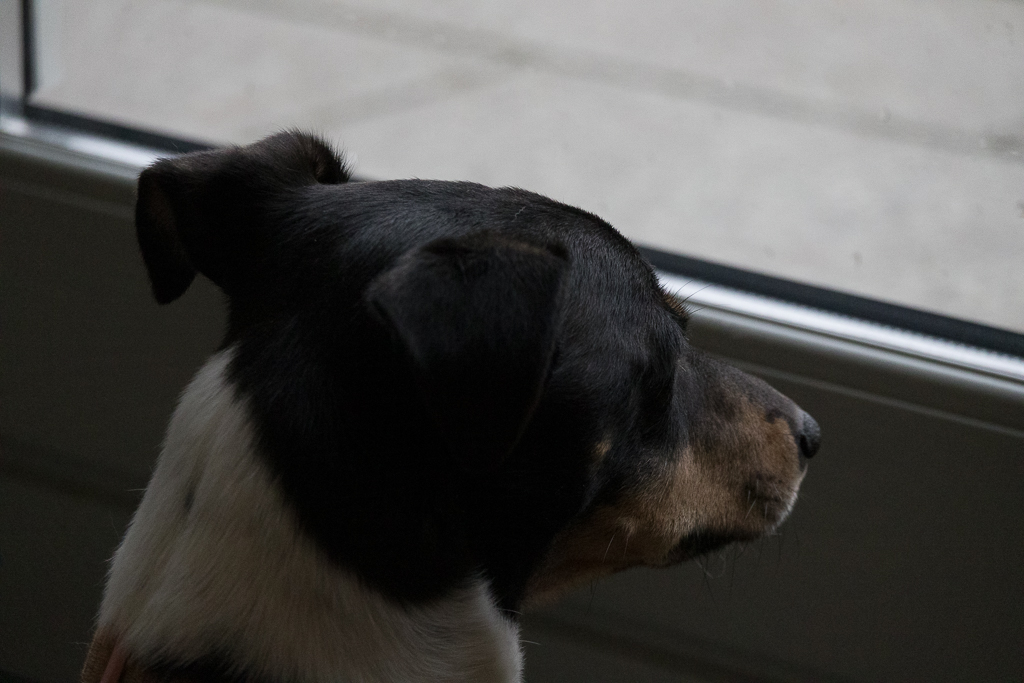Dog: (51, 112, 838, 683)
